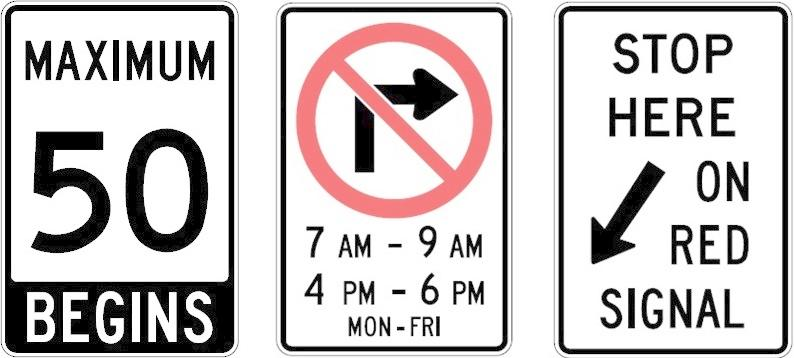speed limit sign: (2, 3, 238, 350)
